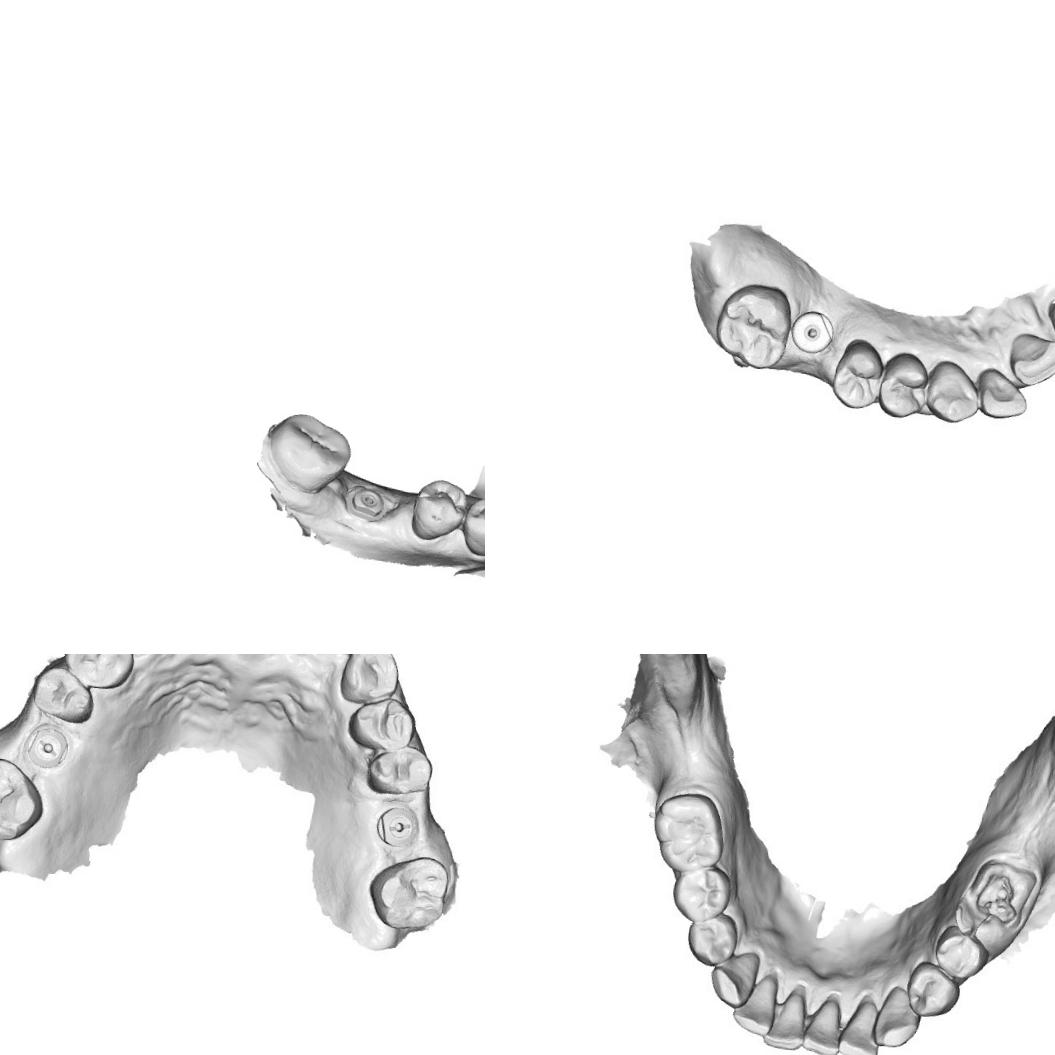canine: (923, 356, 983, 426), (333, 654, 403, 709), (870, 982, 921, 1050), (708, 950, 759, 1011)
implant: (788, 301, 834, 354), (342, 481, 389, 522)
implant_minus: (374, 800, 420, 849), (20, 723, 70, 768)
incisor: (972, 364, 1028, 421), (1005, 327, 1055, 390), (760, 986, 806, 1052), (733, 970, 776, 1036), (838, 994, 882, 1055), (802, 991, 843, 1055)
molar: (260, 408, 356, 498), (364, 846, 455, 938), (708, 281, 799, 372), (647, 788, 729, 875), (0, 751, 44, 844)
premolar: (826, 335, 889, 413), (406, 473, 472, 546), (26, 662, 96, 724), (346, 692, 418, 751), (362, 740, 435, 798), (668, 862, 734, 924), (875, 348, 930, 421), (904, 958, 962, 1020), (682, 909, 742, 968), (931, 922, 991, 981), (57, 654, 135, 691), (459, 495, 485, 560)
